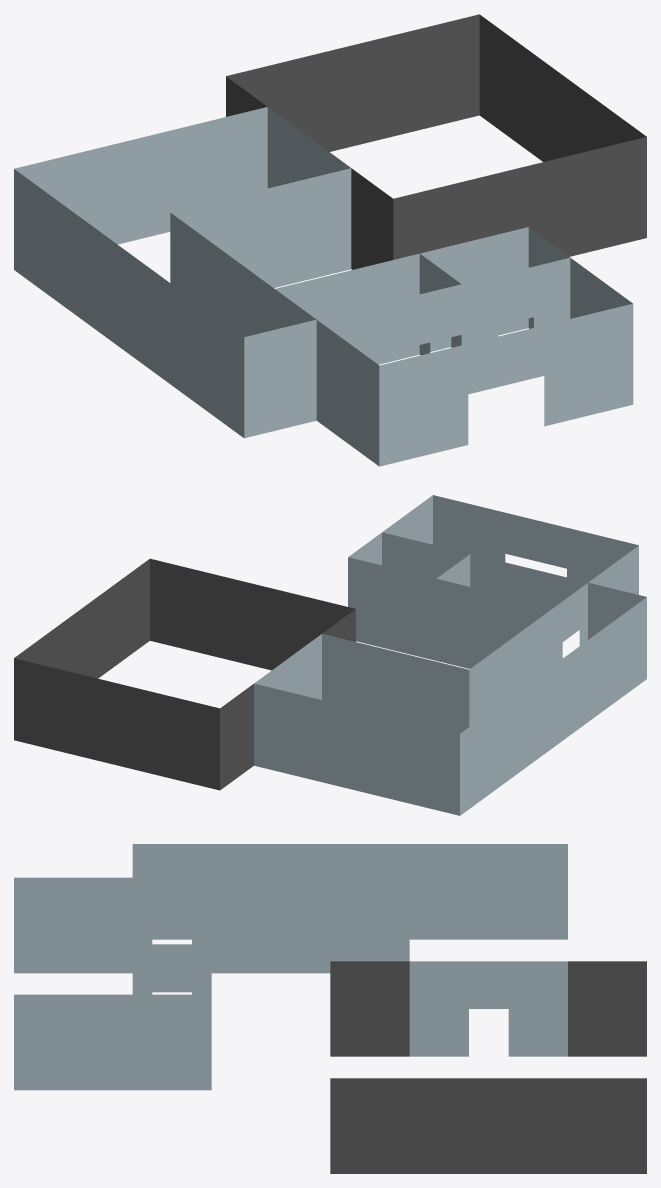
The model's file is SM_Bank_Walls.fbx.
3 views of the same model, one above another, from view 1: azimuth 30°, elevation 25°; view 2: azimuth 150°, elevation 25°; view 3: azimuth 270°, elevation 25° (orthographic). The views are drawn at different scales.
Visible parts, largest first — view 1: SM_Bank_Walls; view 2: SM_Bank_Walls; view 3: SM_Bank_Walls.
Part boxes in pixels (left/top/right/bottom): SM_Bank_Walls: left=14, top=14, right=646, bottom=466; SM_Bank_Walls: left=14, top=495, right=646, bottom=815; SM_Bank_Walls: left=14, top=844, right=646, bottom=1173.
Bounding box in the file's own units: 21 × 4 × 24.
Materials: 1 (1 with a texture image).
